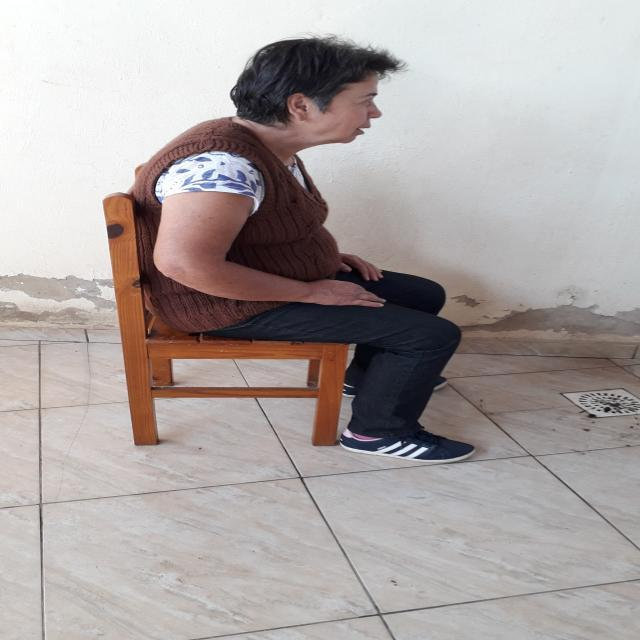bad-pose: (0, 0, 640, 640)
